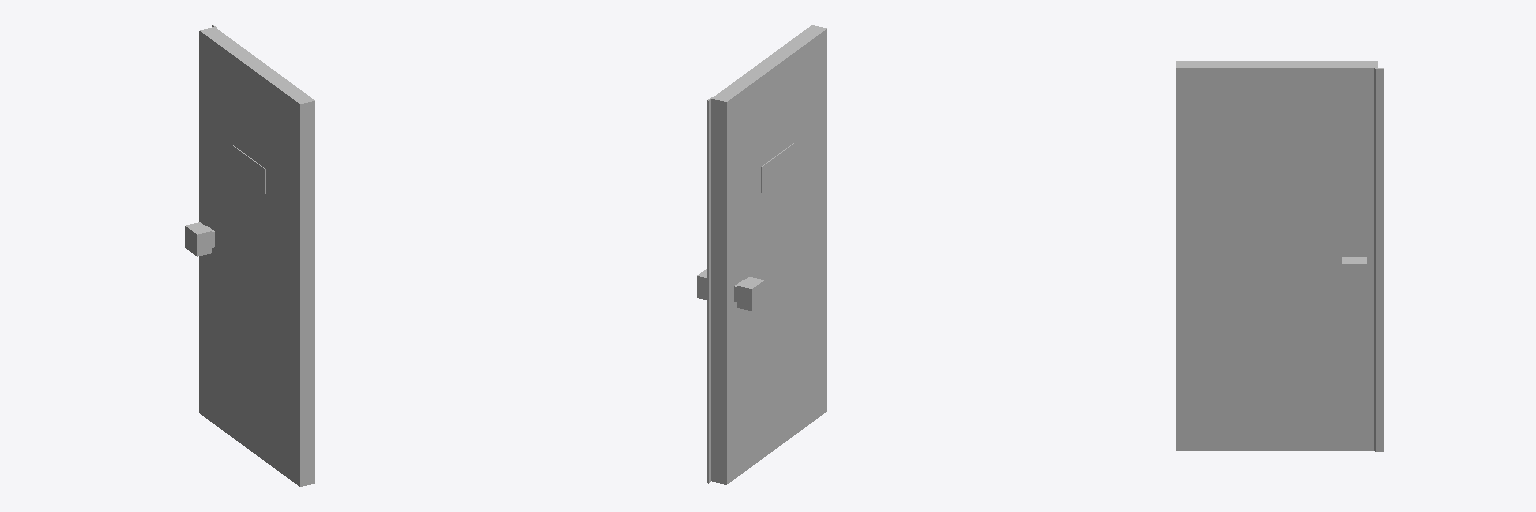
The model's file is NormalDoor.obj.
The picture shows the model from 3 angles: view 1: azimuth 30°, elevation 25°; view 2: azimuth 150°, elevation 25°; view 3: azimuth 270°, elevation 25°; orthographic projection.
Visible parts, largest first — view 1: Box008, Box009; view 2: Box008, Box009; view 3: Box008.
Boxes of the visible parts, x1=… form: Box008: x1=185, y1=25, x2=314, y2=486; Box009: x1=232, y1=145, x2=265, y2=193; Box008: x1=697, y1=25, x2=826, y2=484; Box009: x1=761, y1=143, x2=793, y2=192; Box008: x1=1176, y1=61, x2=1383, y2=451.
Size of the model in its own units: 51.4 by 341 by 167.